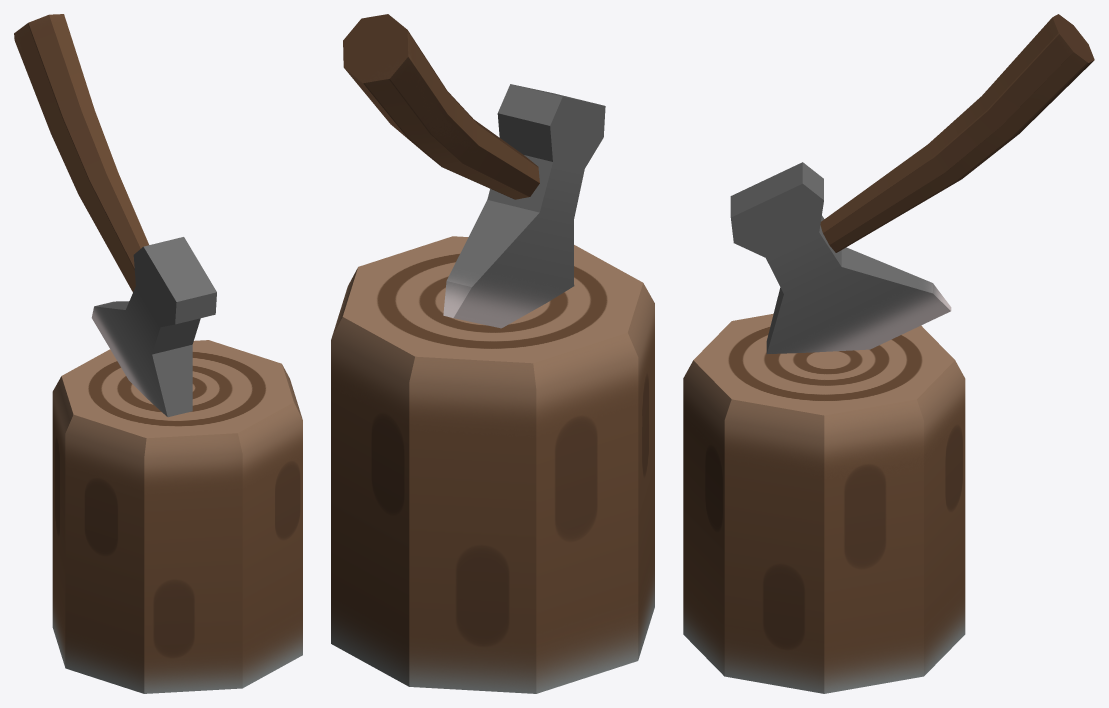
File: ChoppingBlock.fbx
The picture shows the model from 3 angles, left to right: view 1: azimuth 30°, elevation 25°; view 2: azimuth 150°, elevation 25°; view 3: azimuth 270°, elevation 25°; orthographic projection. The views are drawn at different scales.
Visible parts, largest first — view 1: Cylinder; view 2: Cylinder; view 3: Cylinder.
Part boxes in pixels (left/top/right/bottom): Cylinder: left=14, top=14, right=302, bottom=693; Cylinder: left=331, top=14, right=654, bottom=693; Cylinder: left=683, top=14, right=1094, bottom=693.
Size of the model in its own units: 79.69 by 188 by 116.
